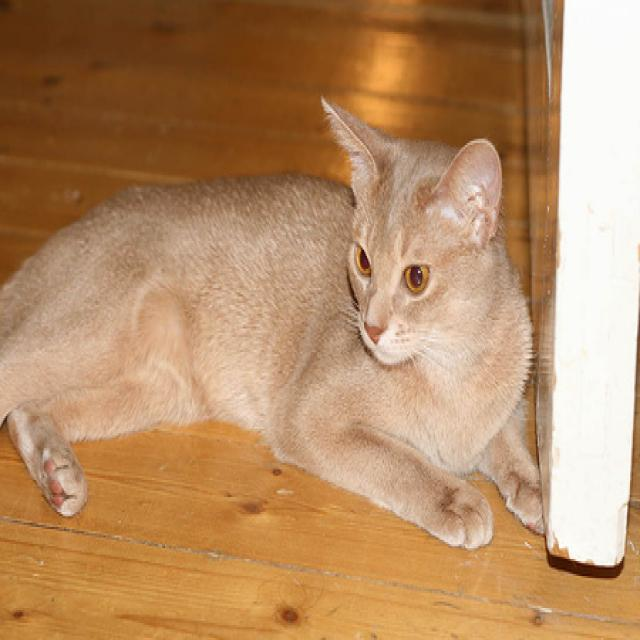Abyssinian: (0, 85, 548, 552)
